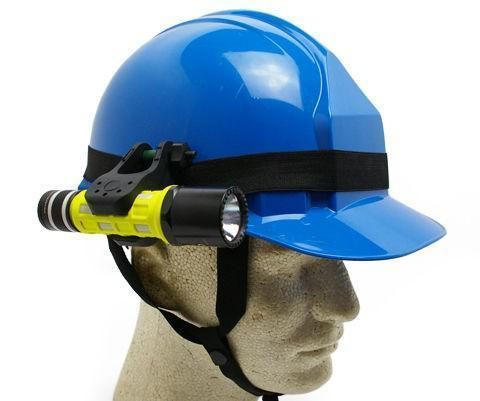helmet: (77, 11, 446, 261)
